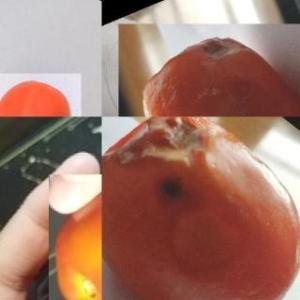tomato: (49, 174, 102, 300), (0, 74, 80, 118)
